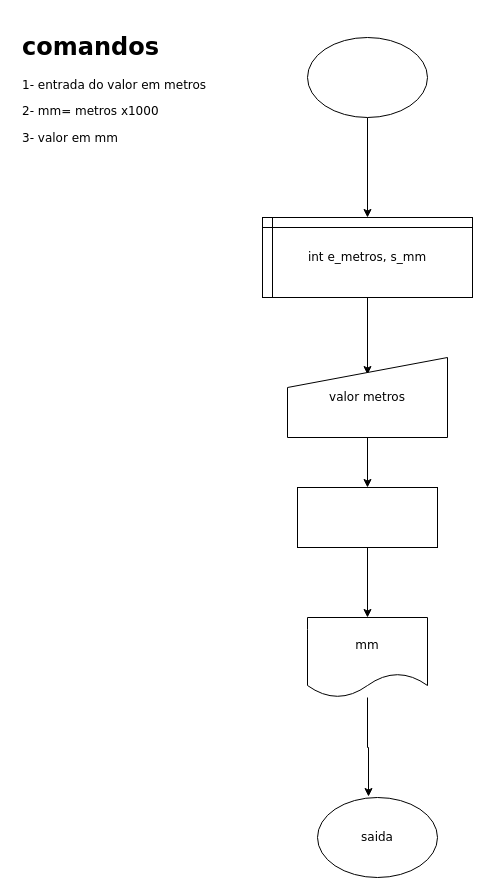
Some shapes in this 490 by 895 pixel diagram are drawn without their labels. The shapes that lost their labels are listed below. From the top down, each one's centre as x and y in pixels, then its label:
the point at 367,77: Start
the point at 367,517: mm=metros x 1000
